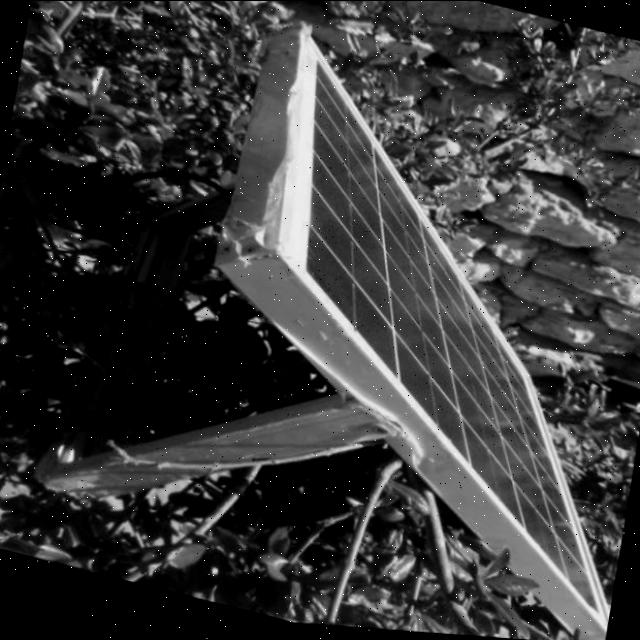Normal Solar Panel: (219, 27, 640, 633)
